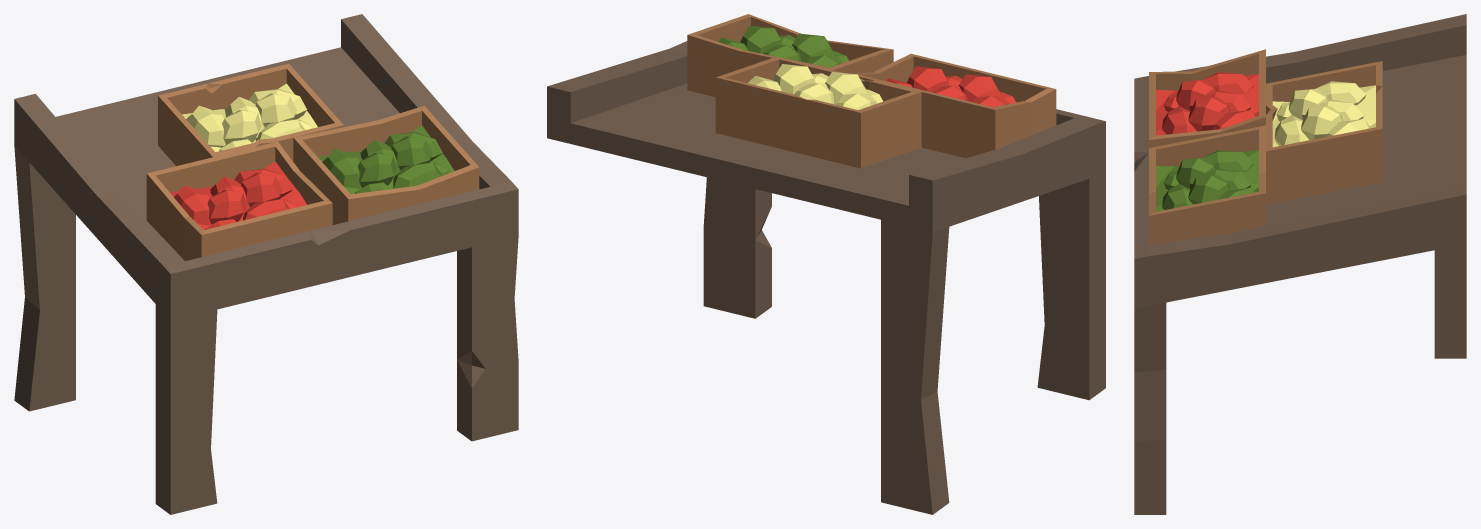
File: Products_2.fbx
3 views of the same model, side by side, from view 1: azimuth 30°, elevation 25°; view 2: azimuth 150°, elevation 25°; view 3: azimuth 270°, elevation 25° (orthographic). The views are drawn at different scales.
Visible parts, largest first — view 1: Products_2; view 2: Products_2; view 3: Products_2.
Part boxes in pixels (box(x1,y1,x2,y2)): Products_2: box(14, 14, 518, 514); Products_2: box(547, 14, 1105, 514); Products_2: box(1134, 14, 1466, 514).
Size of the model in its own units: 112 by 86.79 by 94.51.
